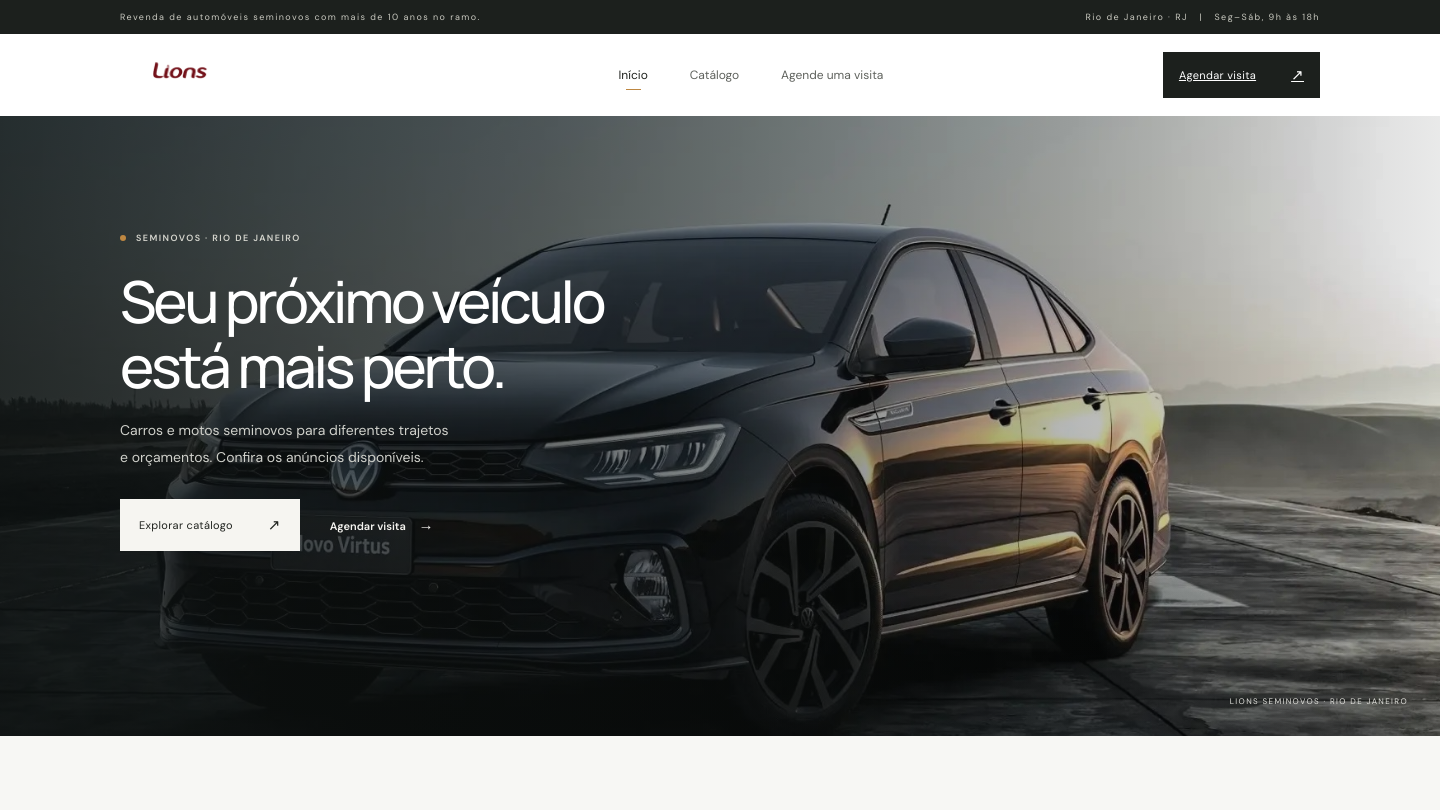
Test: experiência Lions › mostra o estado de carregamento e trata falha do catálogo
Click the link "Catálogo". click: (714, 75)
box: [690,67,739,83]
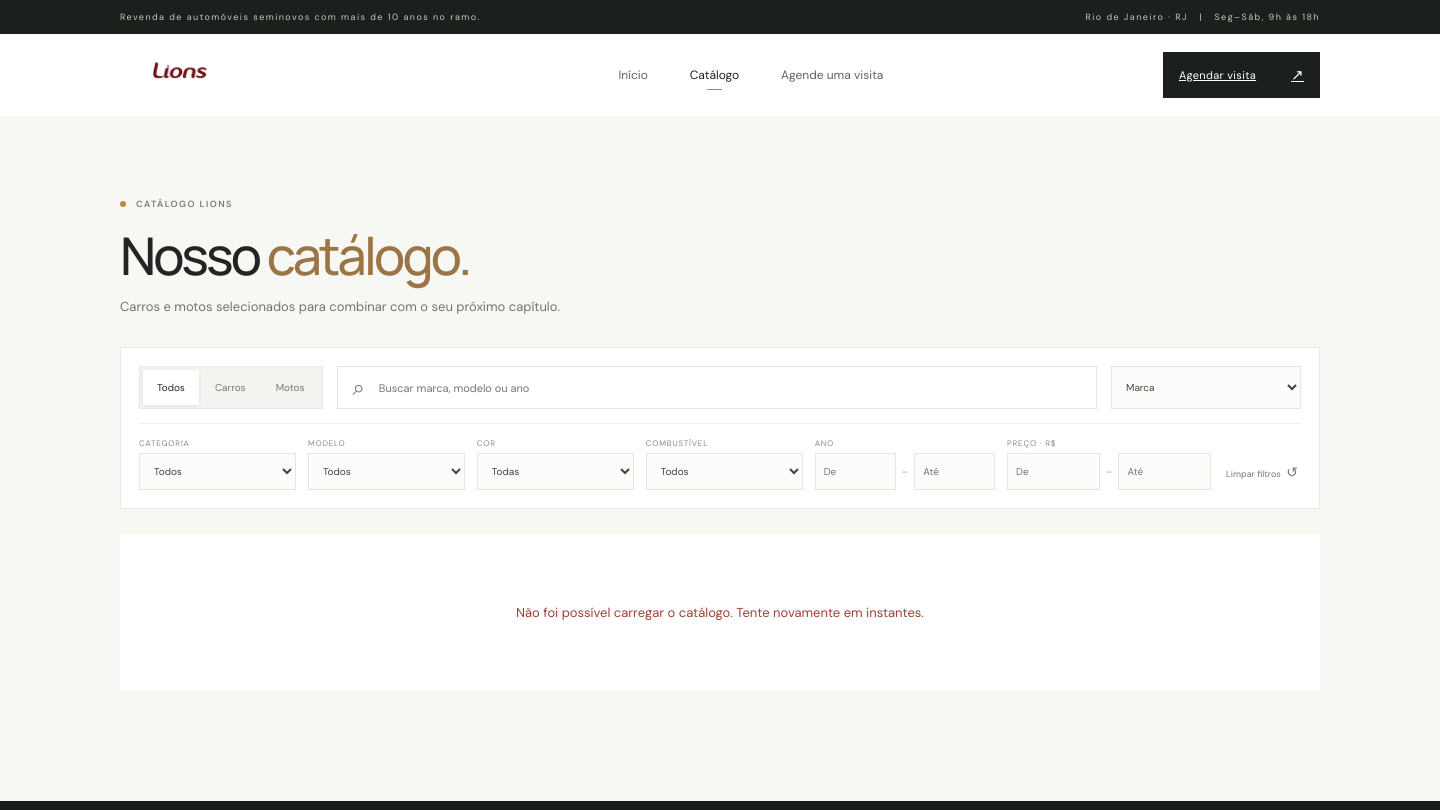
Now the text "Carregando nossa seleção…" is shown, box [120,534,1320,691]
Now the text "Não foi possível carregar o catálogo" is shown, box [516,604,924,621]
